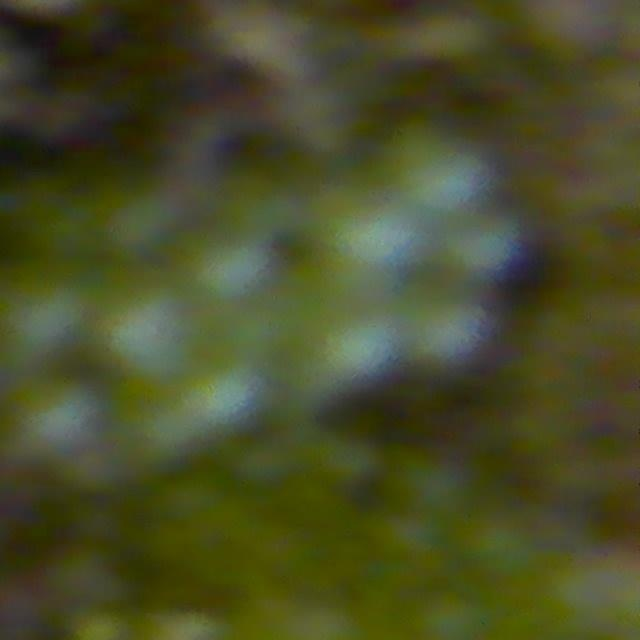SeaGrape: (317, 197, 418, 294), (383, 128, 483, 224), (102, 291, 198, 387), (406, 294, 491, 379), (313, 312, 402, 390), (9, 390, 98, 464), (188, 230, 273, 307), (0, 283, 88, 356), (443, 207, 526, 284), (102, 184, 182, 262), (186, 361, 257, 439)
